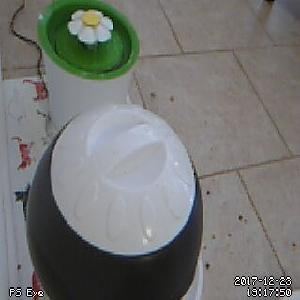fountain: (36, 1, 141, 80)
